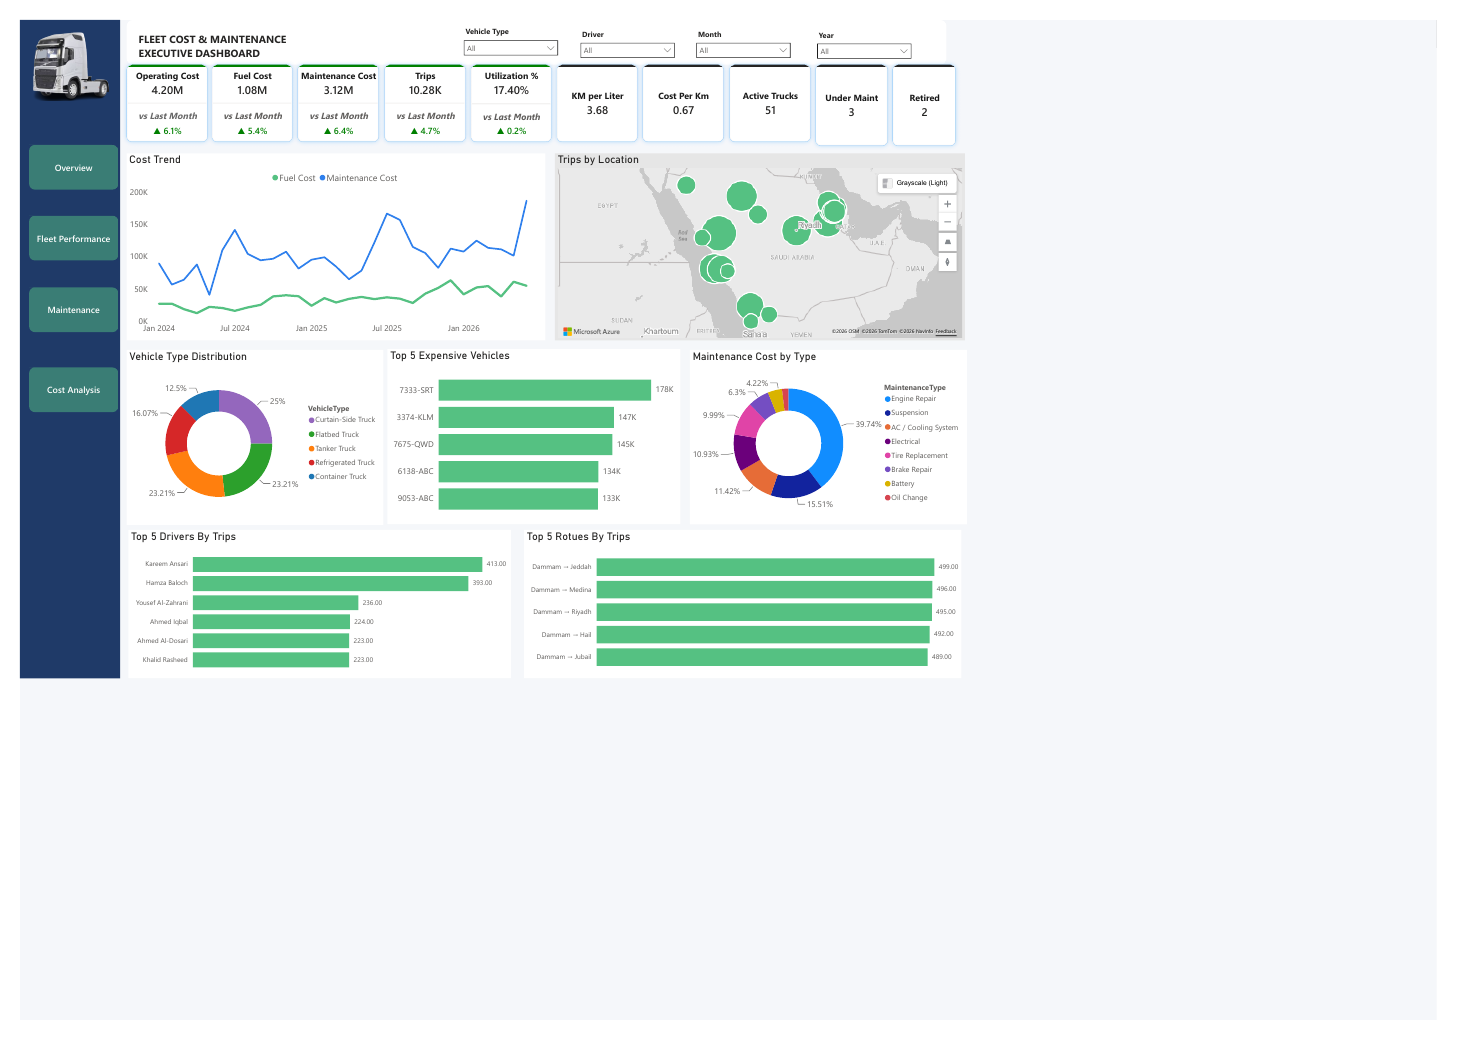

Layout of this report page (visuals, bound fields, positions):
{"tool":"powerbi","page":{"name":"Dashboard","canvas":[1700,1200],"ordinal":0},"visuals":[{"type":"shape","box":[0,0,180,1182],"z":0},{"type":"shape","box":[192,0,1472,80],"z":1000},{"type":"cardVisual","fields":{"Data":["_Measure Cost.Fuel Cost"]},"box":[329.9,64,175.1,169.1],"z":2000},{"type":"cardVisual","fields":{"Data":["_Measure Cost.Maintenance Cost"]},"box":[483.8,64,176.6,169.1],"z":3000},{"type":"cardVisual","fields":{"Data":["_Measure Trips.Trips"]},"box":[639.2,64,176.6,169.1],"z":4000},{"type":"textbox","box":[208,16,304,64],"z":5000},{"type":"slicer","fields":{"Values":["FleetMaster.VehicleType"]},"box":[787.7,7.4,188.8,61.2],"z":6000},{"type":"slicer","fields":{"Values":["DriverMaster.DriverName"]},"box":[996.1,11.8,188.8,61.2],"z":7000},{"type":"cardVisual","fields":{"Data":["_Measure Cost.Operating Cost"]},"box":[176,64,175.1,169.1],"z":8000},{"type":"cardVisual","fields":{"Data":["_Measure Down Time & UT.Vehicle Utilization %"]},"box":[794.6,64,175.1,170.6],"z":9000},{"type":"cardVisual","fields":{"Data":["_Measure Fuel efficiency.KM per Liter"]},"box":[948.5,64,175.1,170.6],"z":10000},{"type":"cardVisual","fields":{"Data":["_Measure Cost.Cost Per Km"]},"box":[1102.4,64,176.6,170.6],"z":11000},{"type":"cardVisual","fields":{"Data":["_Measure Trips.Active Trucks"]},"box":[1257.8,64,176.6,170.6],"z":12000},{"type":"lineChart","title":"Cost Trend","fields":{"Category":["Calendar.MonthYear"],"Y":["_Measure Cost.Fuel Cost","_Measure Cost.Maintenance Cost"]},"box":[192,240,752,336],"z":13000},{"type":"barChart","title":"Top 5 Expensive Vehicles","fields":{"Category":["FleetMaster.PlateNo"],"Y":["_Measure Cost.Operating Cost"]},"box":[659.1,591.1,525.8,313.8],"z":14000},{"type":"donutChart","title":"Maintenance Cost by Type","fields":{"Category":["MaintenanceLog.MaintenanceType"],"Y":["_Measure Cost.Maintenance Cost"]},"box":[1203,592.6,496.6,313.3],"z":15000},{"type":"barChart","title":"Top 5 Drivers By Trips","fields":{"Category":["DriverMaster.DriverName"],"Y":["_Measure Trips.Trips"]},"box":[195.1,916.3,687.2,266],"z":16000},{"type":"barChart","title":"Top 5 Rotues By Trips","fields":{"Category":["DailyTrips.Route"],"Y":["_Measure Trips.Trips"]},"box":[905.9,916.3,784.7,266],"z":17000},{"type":"donutChart","title":"Vehicle Type Distribution","fields":{"Category":["FleetMaster.VehicleType"],"Y":["_Measure Trips.Fleet Count"]},"box":[192,592,460.8,313.8],"z":18000},{"type":"cardVisual","fields":{"Data":["_Measure Trips.Under Maintenance"]},"box":[1413.2,64,160,176],"z":19000},{"type":"cardVisual","fields":{"Data":["_Measure Trips.Retired"]},"box":[1552,64,144,176],"z":20000},{"type":"azureMap","fields":{"Category":["DailyTrips.Location"],"Size":["_Measure Trips.Trips"]},"box":[960,240,736,336],"z":21000},{"type":"slicer","fields":{"Values":["Calendar.MonthName"]},"box":[1204.4,11.8,188.8,61.2],"z":22000},{"type":"slicer","fields":{"Values":["Calendar.Year"]},"box":[1421.7,13.3,188.8,61.2],"z":23000},{"type":"actionButton","box":[16,224,160,80],"z":24000},{"type":"actionButton","box":[16,352,160,80],"z":25000},{"type":"actionButton","box":[16,480,160,80],"z":26000},{"type":"actionButton","box":[16,624,160,80],"z":27000},{"type":"image","box":[0,0,192,160],"z":28000}]}

Visuals, with their boxes in screenshot pixels (x1, y1, x2, y2), scaled from the page's 1700x1200 canvas onto the 1457x1040 screenshot:
shape: (left=0, top=0, right=154, bottom=1024)
shape: (left=165, top=0, right=1426, bottom=69)
cardVisual - _Measure Cost.Fuel Cost: (left=283, top=55, right=433, bottom=202)
cardVisual - _Measure Cost.Maintenance Cost: (left=415, top=55, right=566, bottom=202)
cardVisual - _Measure Trips.Trips: (left=548, top=55, right=699, bottom=202)
textbox: (left=178, top=14, right=439, bottom=69)
slicer - FleetMaster.VehicleType: (left=675, top=6, right=837, bottom=59)
slicer - DriverMaster.DriverName: (left=854, top=10, right=1016, bottom=63)
cardVisual - _Measure Cost.Operating Cost: (left=151, top=55, right=301, bottom=202)
cardVisual - _Measure Down Time & UT.Vehicle Utilization %: (left=681, top=55, right=831, bottom=203)
cardVisual - _Measure Fuel efficiency.KM per Liter: (left=813, top=55, right=963, bottom=203)
cardVisual - _Measure Cost.Cost Per Km: (left=945, top=55, right=1096, bottom=203)
cardVisual - _Measure Trips.Active Trucks: (left=1078, top=55, right=1229, bottom=203)
"Cost Trend" lineChart: (left=165, top=208, right=809, bottom=499)
"Top 5 Expensive Vehicles" barChart: (left=565, top=512, right=1016, bottom=784)
"Maintenance Cost by Type" donutChart: (left=1031, top=514, right=1456, bottom=785)
"Top 5 Drivers By Trips" barChart: (left=167, top=794, right=756, bottom=1025)
"Top 5 Rotues By Trips" barChart: (left=776, top=794, right=1449, bottom=1025)
"Vehicle Type Distribution" donutChart: (left=165, top=513, right=559, bottom=785)
cardVisual - _Measure Trips.Under Maintenance: (left=1211, top=55, right=1348, bottom=208)
cardVisual - _Measure Trips.Retired: (left=1330, top=55, right=1454, bottom=208)
azureMap - DailyTrips.Location x _Measure Trips.Trips: (left=823, top=208, right=1454, bottom=499)
slicer - Calendar.MonthName: (left=1032, top=10, right=1194, bottom=63)
slicer - Calendar.Year: (left=1218, top=12, right=1380, bottom=65)
actionButton: (left=14, top=194, right=151, bottom=263)
actionButton: (left=14, top=305, right=151, bottom=374)
actionButton: (left=14, top=416, right=151, bottom=485)
actionButton: (left=14, top=541, right=151, bottom=610)
image: (left=0, top=0, right=165, bottom=139)
